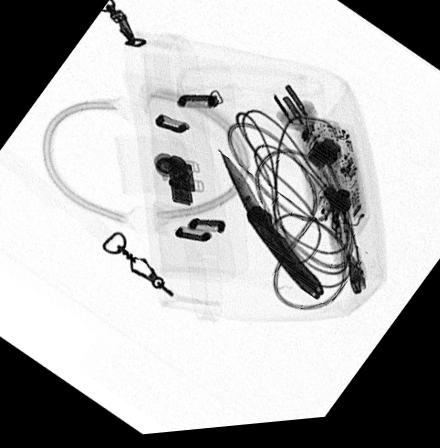Knife: (216, 152, 326, 307)
